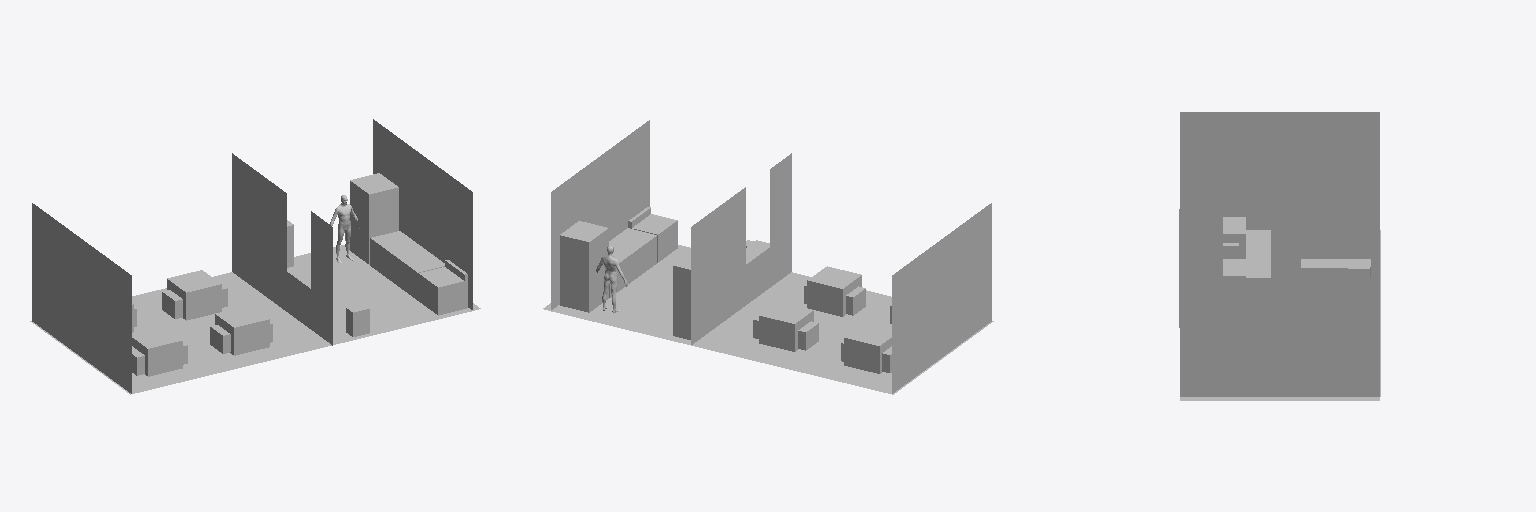
The model's file is environment_v01.obj.
3 renders of one model, left to right at view 1: azimuth 30°, elevation 25°; view 2: azimuth 150°, elevation 25°; view 3: azimuth 270°, elevation 25°, orthographic.
Size of the model in its own units: 1035 by 335 by 513.